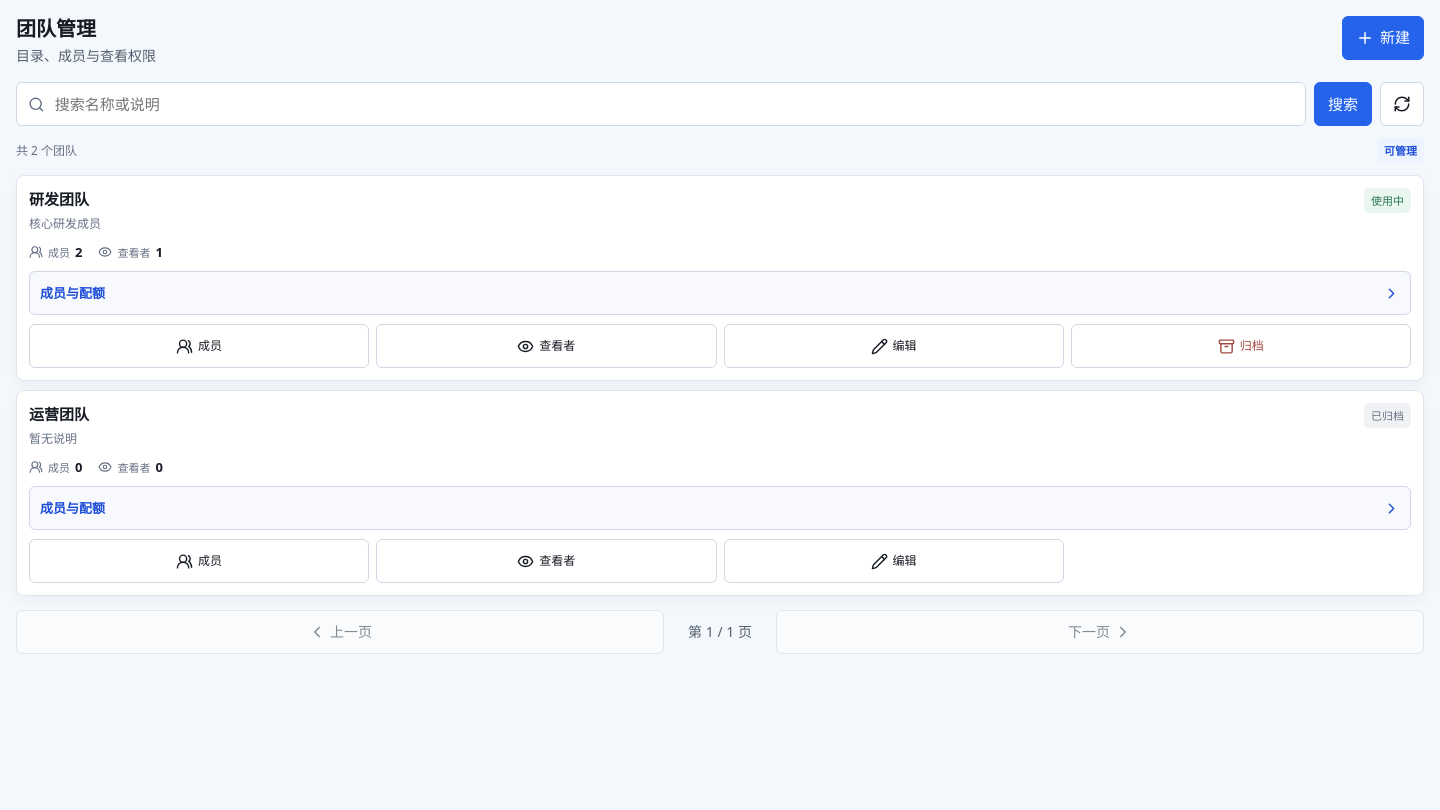
Test case: MobileUserGroupsView › keeps an archived group removed and reports stale directory data when post-archive sync fails
Click the button with test id "archive-user-group-3".
click(1241, 346)  # box [1071,324,1411,368]
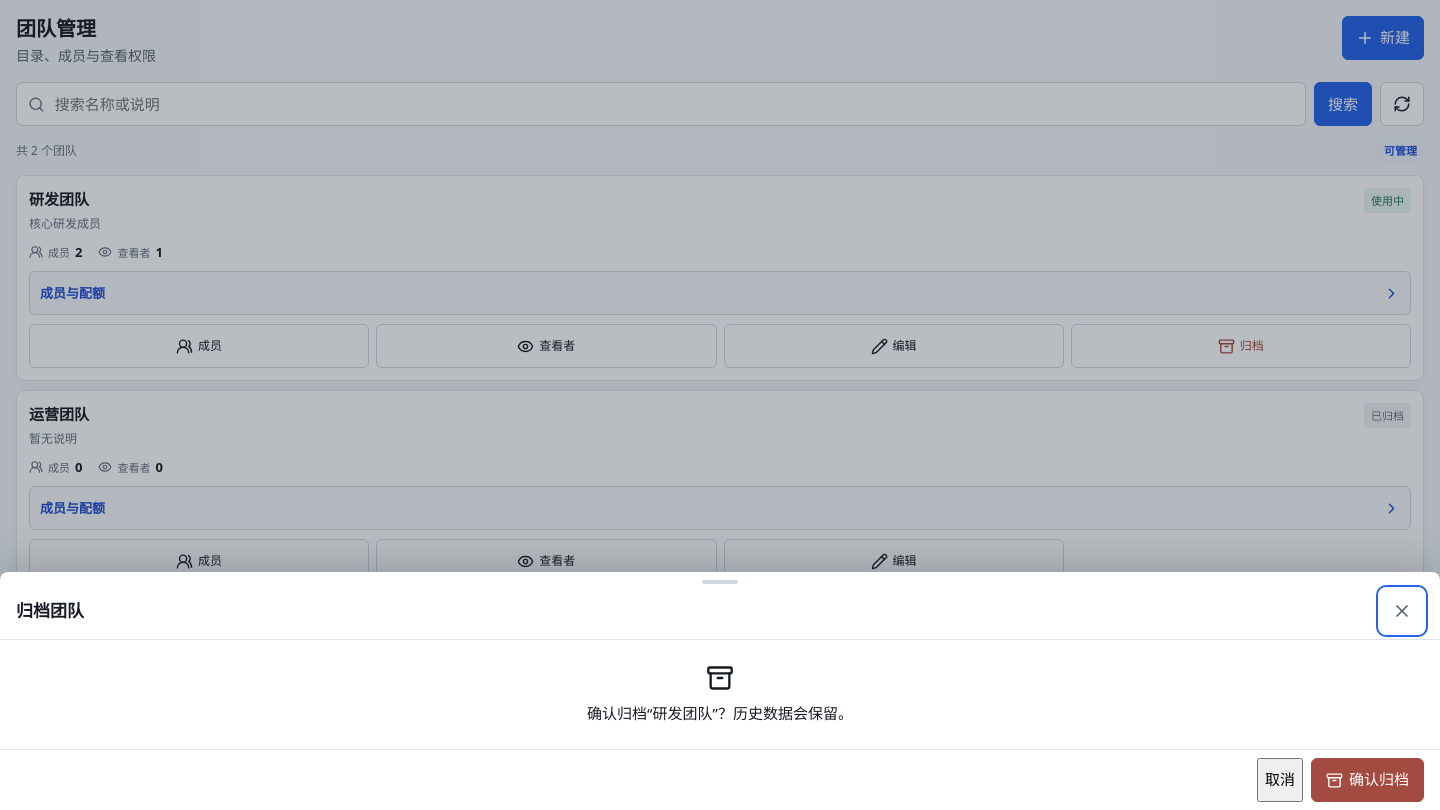
Click the button with test id "confirm-archive-user-group".
click(1368, 780)  # box [1311,758,1424,802]
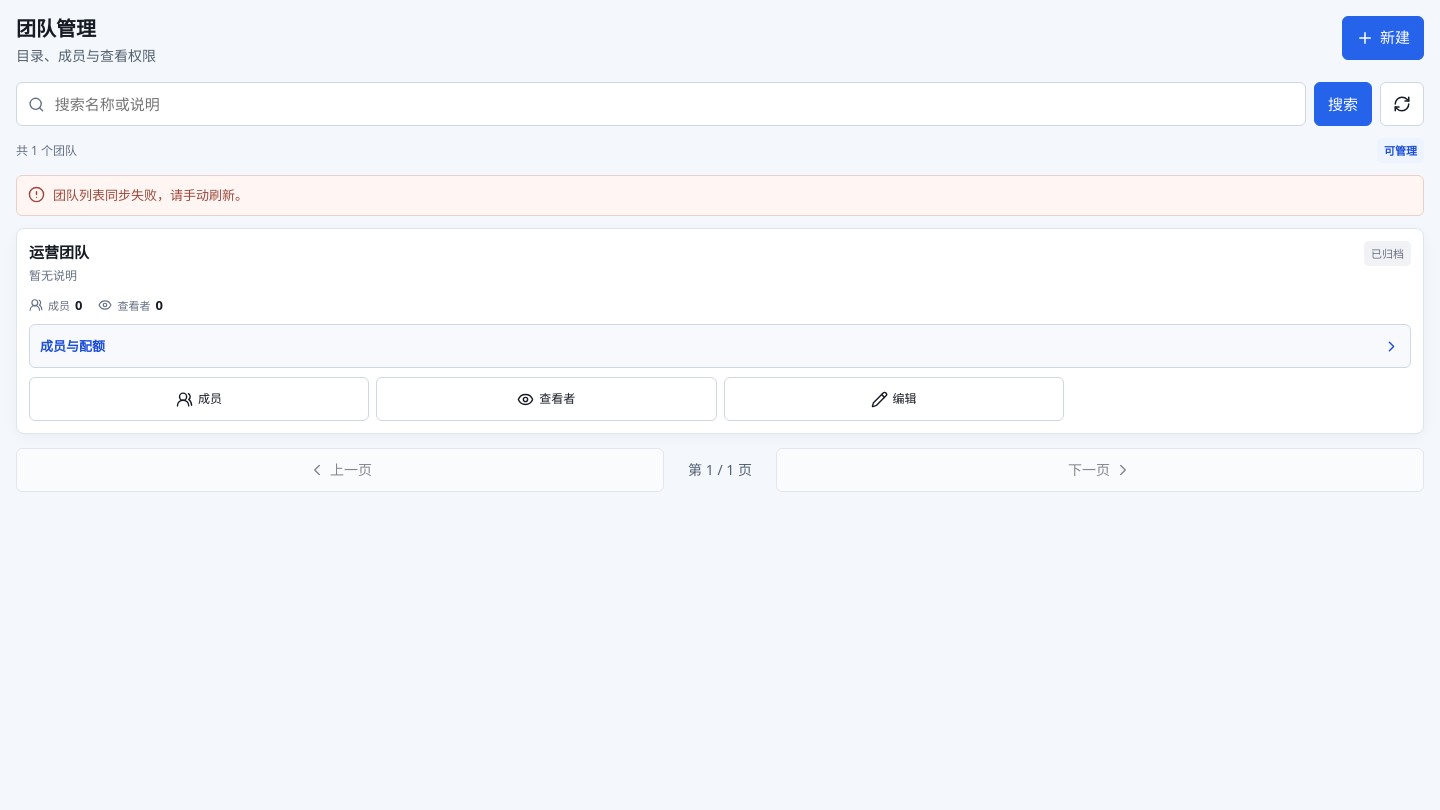
Check: the message with test id "user-group-sync-warning" reads "团队列表同步失败，请手动刷新。", box [53,186,248,204]
